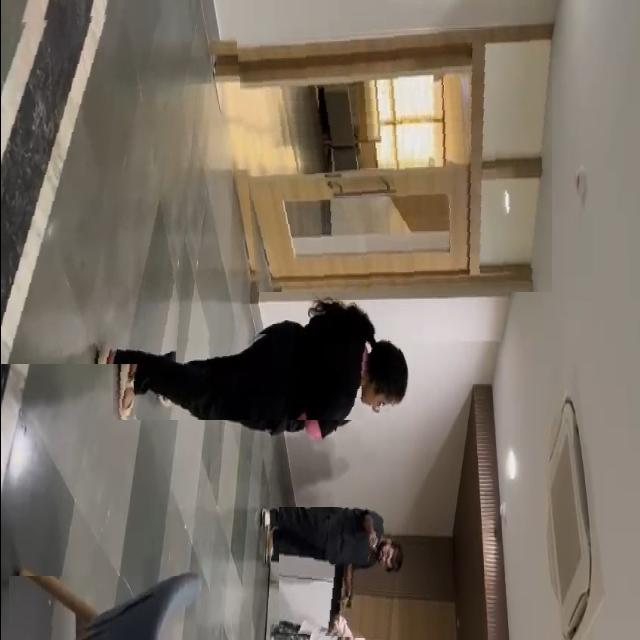door: (234, 27, 550, 292)
floor: (0, 6, 201, 364)
furniture: (8, 576, 192, 640)
moving_object: (112, 328, 400, 420), (278, 507, 401, 640)
